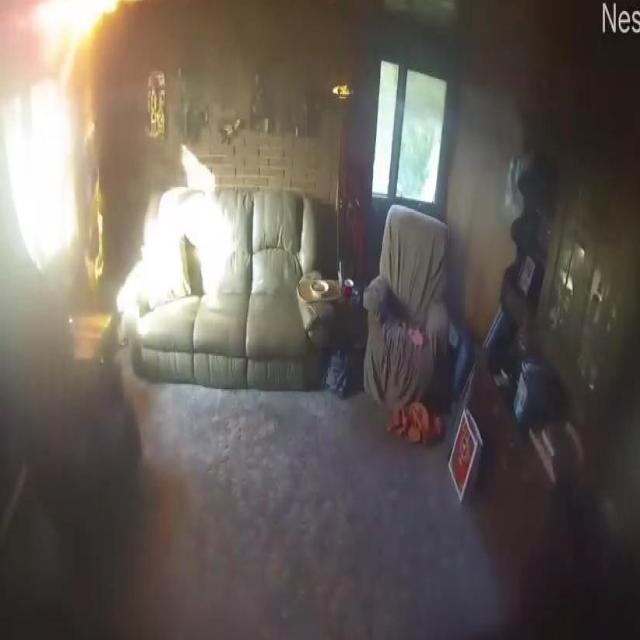smoke: (22, 0, 156, 53), (80, 88, 106, 290)
